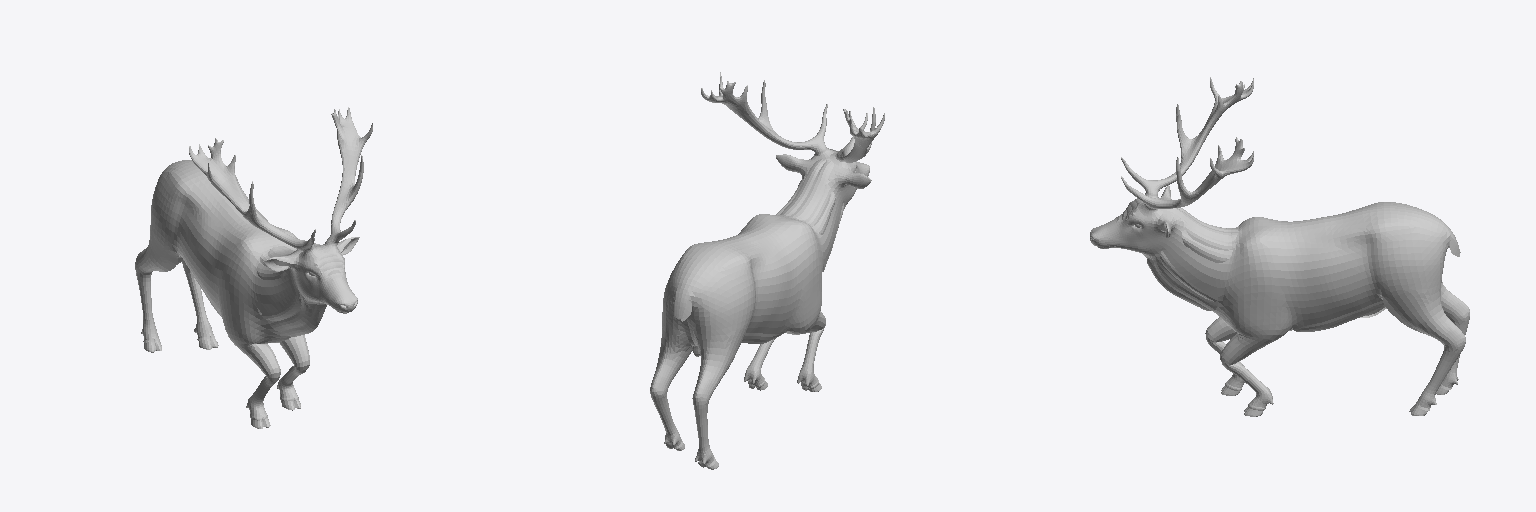
File: frame_0025_uv.obj
The picture shows the model from 3 angles: view 1: azimuth 30°, elevation 25°; view 2: azimuth 150°, elevation 25°; view 3: azimuth 270°, elevation 25°; orthographic projection.
Visible parts, largest first — view 1: pMesh1; view 2: pMesh1; view 3: pMesh1.
Boxes of the visible parts, x1=… form: pMesh1: x1=135, y1=107, x2=372, y2=428; pMesh1: x1=650, y1=72, x2=884, y2=469; pMesh1: x1=1090, y1=77, x2=1469, y2=416.
Bounding box in the file's own units: 1.05 × 1.78 × 2.09.